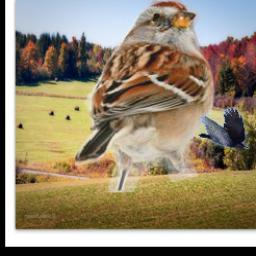Crow: (198, 108, 249, 150)
Sparrow: (74, 0, 216, 193)
